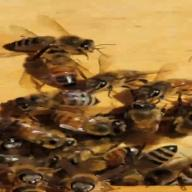Bee: (1, 29, 118, 59)
